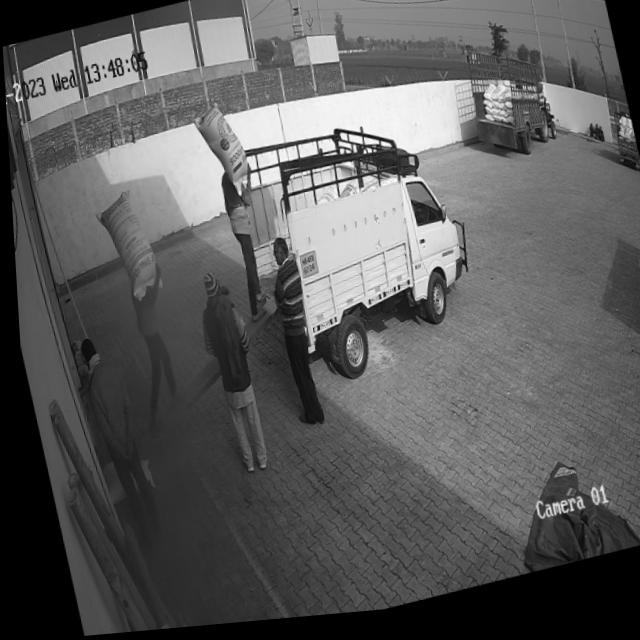sack: (90, 186, 162, 309), (190, 103, 251, 207)
